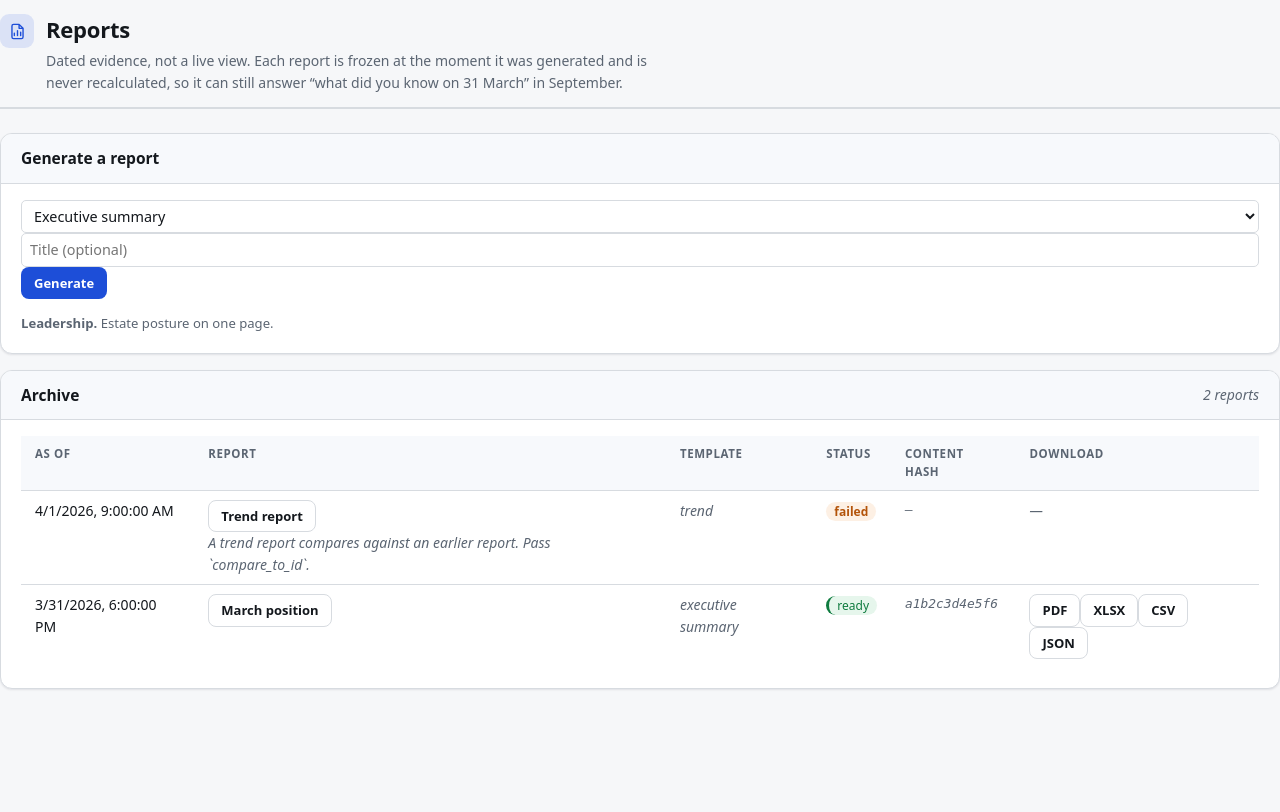
ReportsPage › templates that need a scope ask for it before generating › enables generation once a device is picked
Select "Device detail" in the dropdown named "Report template" at x=640, y=216, box [21,200,1259,232]
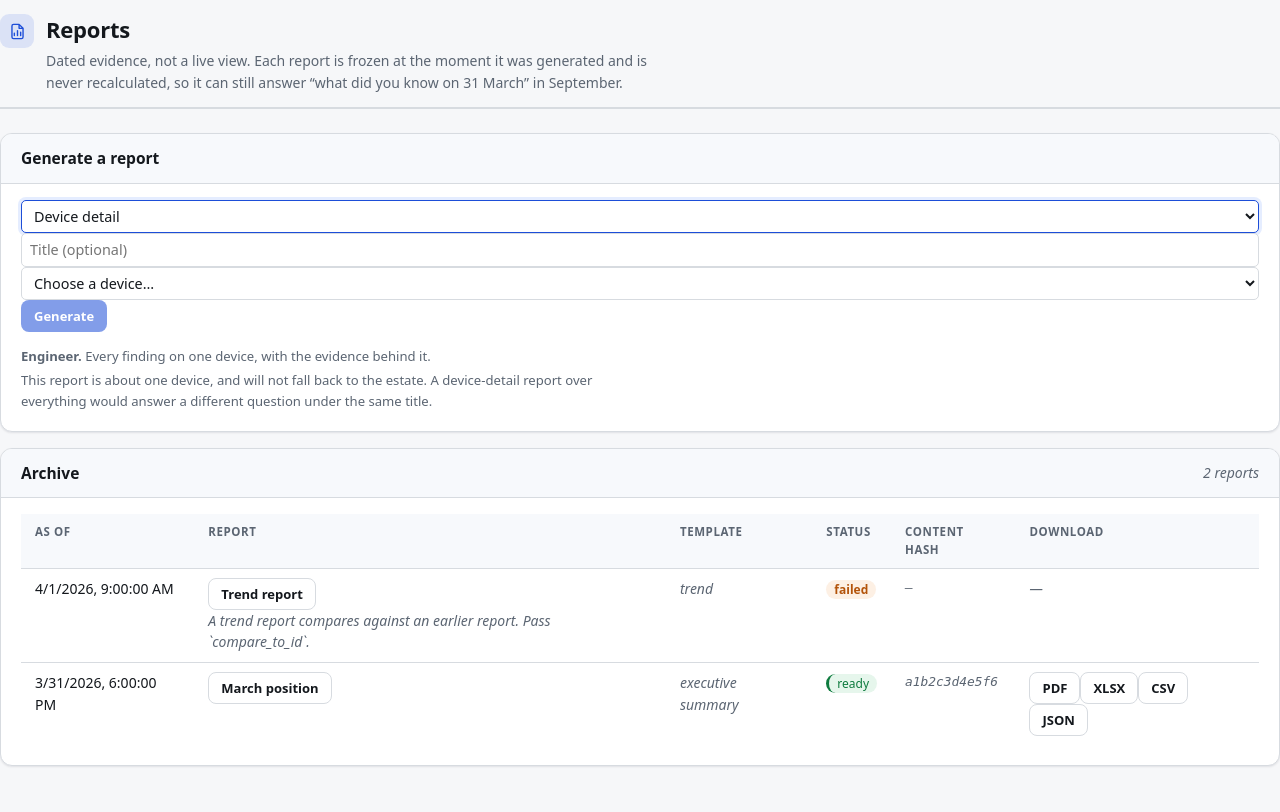
Select "sw-bad" in the dropdown named "Device" at x=640, y=283, box [21,267,1259,300]
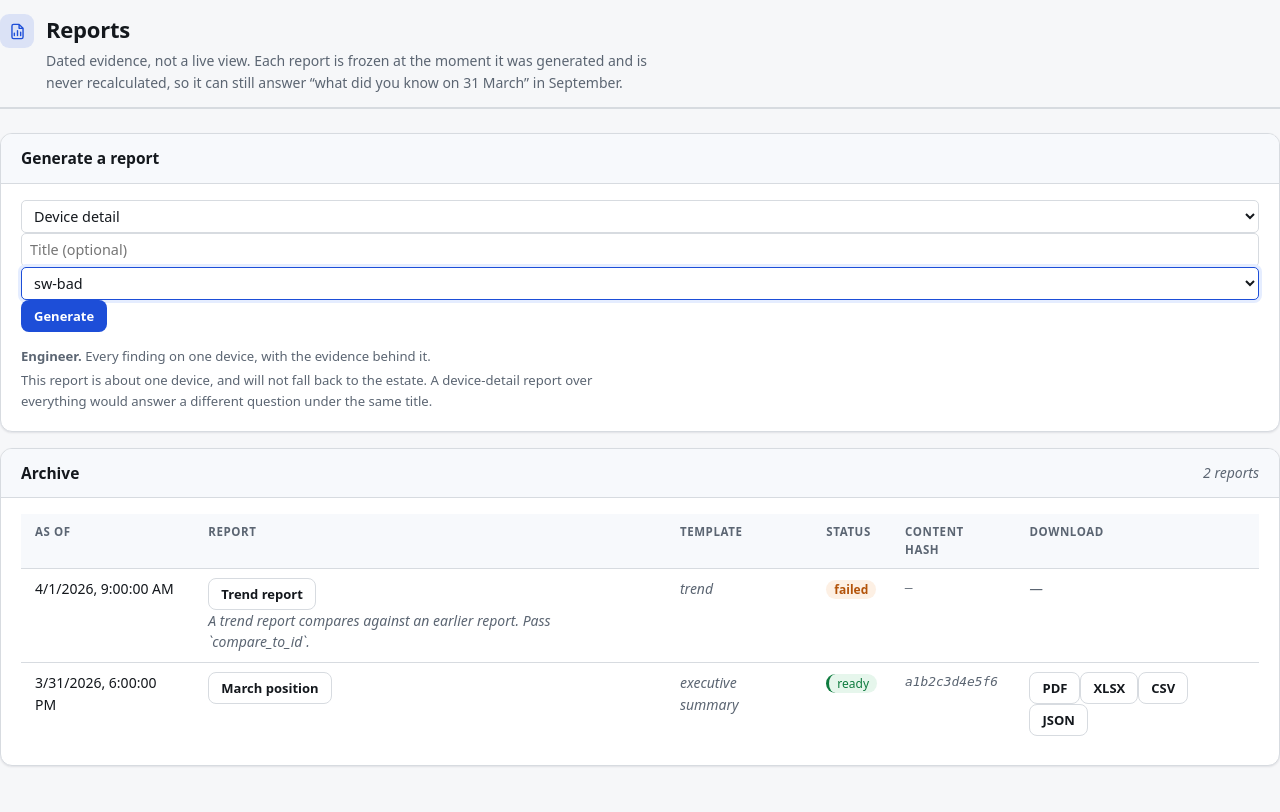
expect the button "Generate" is enabled: met, box [21,300,107,332]
